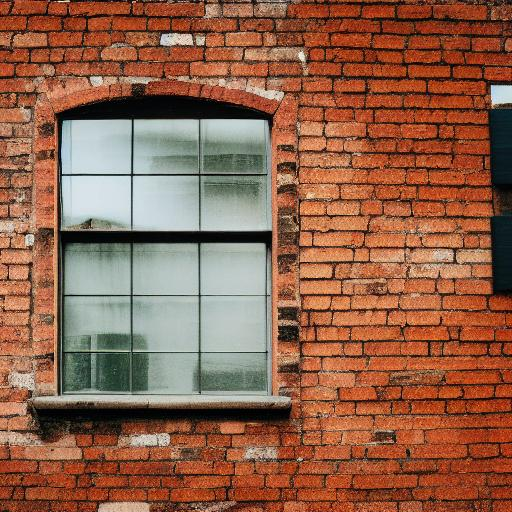Window: (31, 74, 297, 415)
